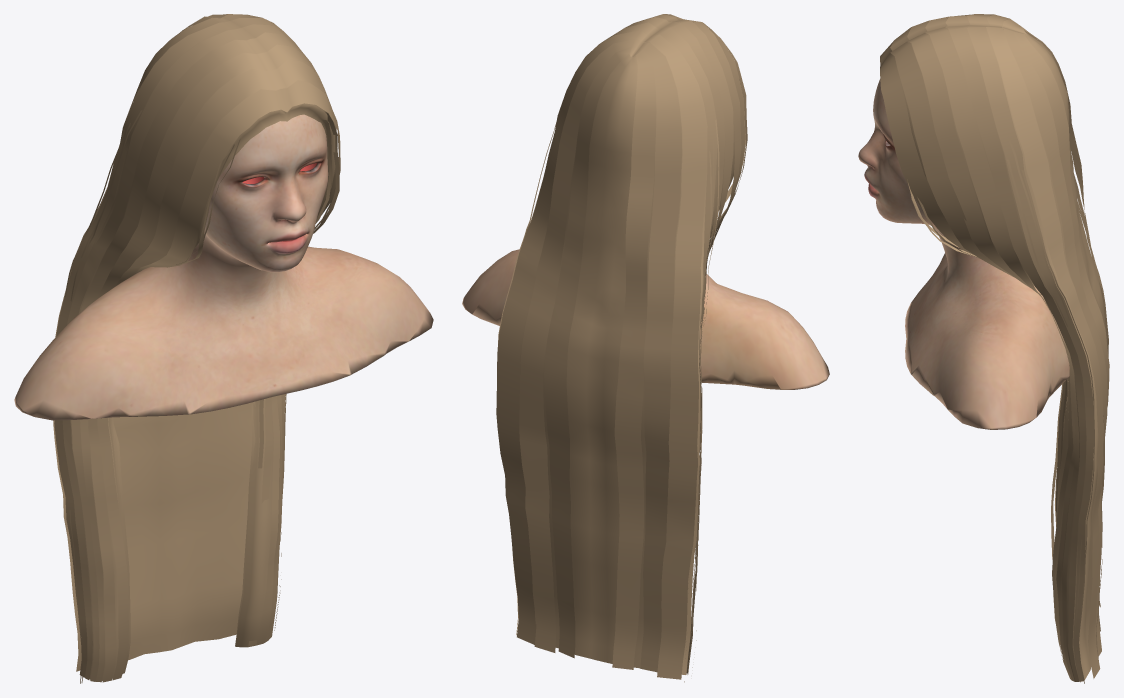
File: laura-head-combined.glb
The picture shows the model from 3 angles, left to right: view 1: azimuth 30°, elevation 25°; view 2: azimuth 150°, elevation 25°; view 3: azimuth 270°, elevation 25°; orthographic projection. The views are drawn at different scales.
Parts seen in each view (by area): view 1: Laura native MPFB head.long01, Laura native MPFB head; view 2: Laura native MPFB head.long01, Laura native MPFB head; view 3: Laura native MPFB head.long01, Laura native MPFB head.
Part boxes in pixels (bbox=[...]): Laura native MPFB head.long01: bbox=[53, 14, 340, 683]; Laura native MPFB head: bbox=[14, 114, 433, 420]; Laura native MPFB head.long01: bbox=[496, 14, 747, 682]; Laura native MPFB head: bbox=[462, 249, 829, 389]; Laura native MPFB head.long01: bbox=[880, 14, 1109, 683]; Laura native MPFB head: bbox=[858, 79, 1069, 429].
Bounding box in the file's own units: 0.4102 × 0.6545 × 0.2384.
2 materials, 1 textured.
